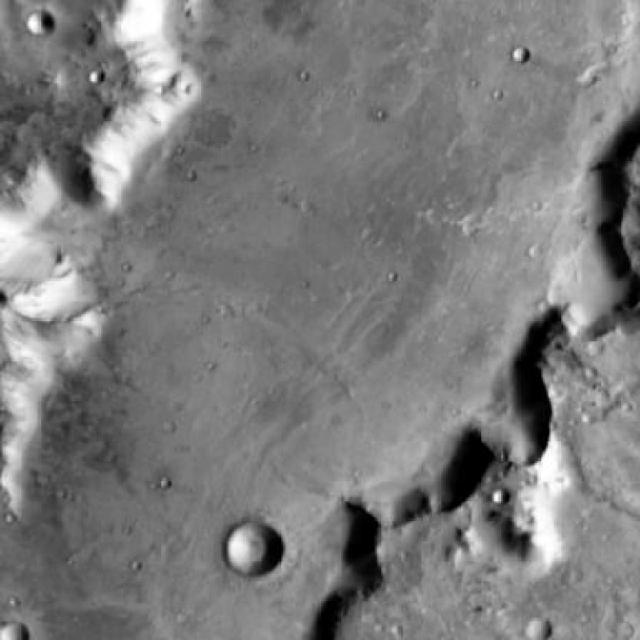crater: (224, 526, 281, 579), (21, 11, 48, 37), (529, 618, 556, 640), (493, 487, 512, 504), (510, 47, 528, 64)
